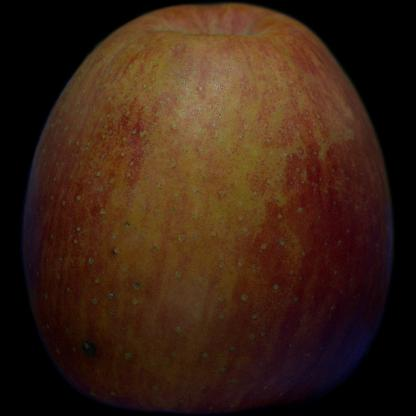defect: (63, 309, 117, 384)
